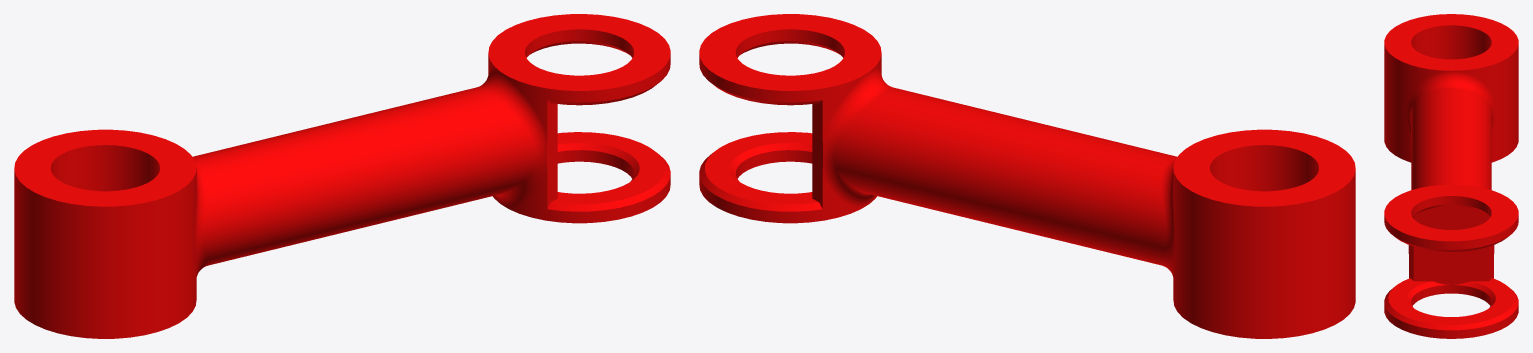
3 views of the same model, side by side, from view 1: azimuth 30°, elevation 25°; view 2: azimuth 150°, elevation 25°; view 3: azimuth 270°, elevation 25° (orthographic). The views are drawn at different scales.
Parts seen in each view (by area): view 1: ID2; view 2: ID2; view 3: ID2.
Part boxes in pixels (<box>): ID2: <box>14,14,670,338</box>; ID2: <box>699,14,1355,338</box>; ID2: <box>1384,14,1518,338</box>.
Size of the model in its own units: 0.2 by 0.0499 by 0.04.
